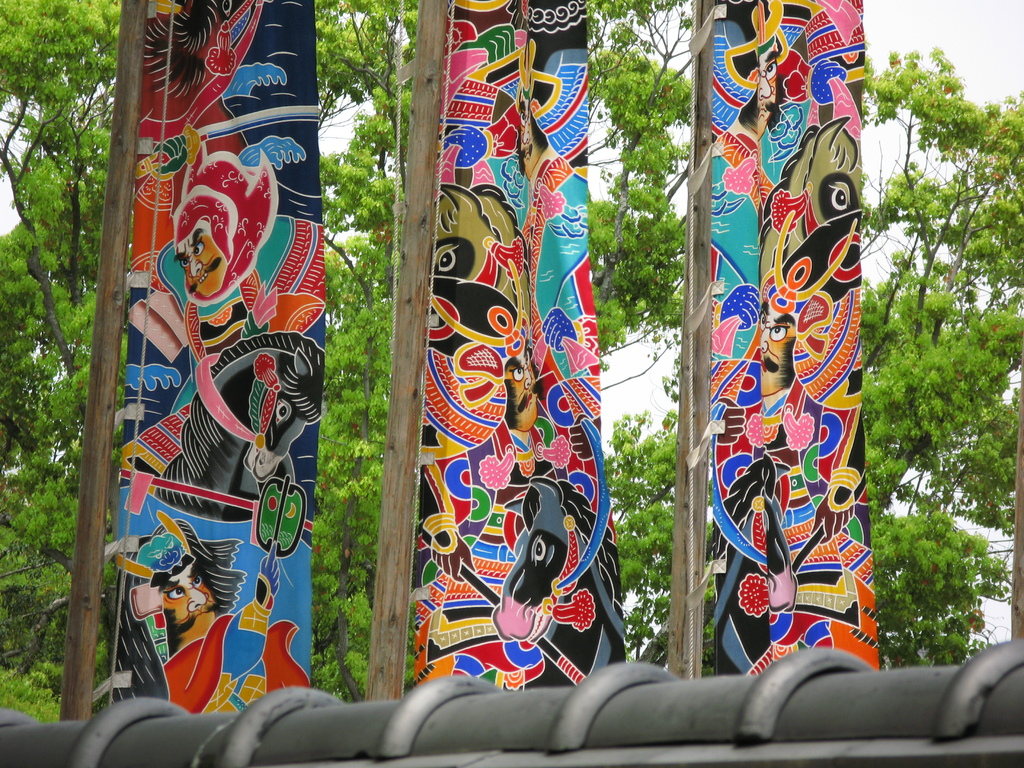Tree: (0, 0, 1023, 722)
